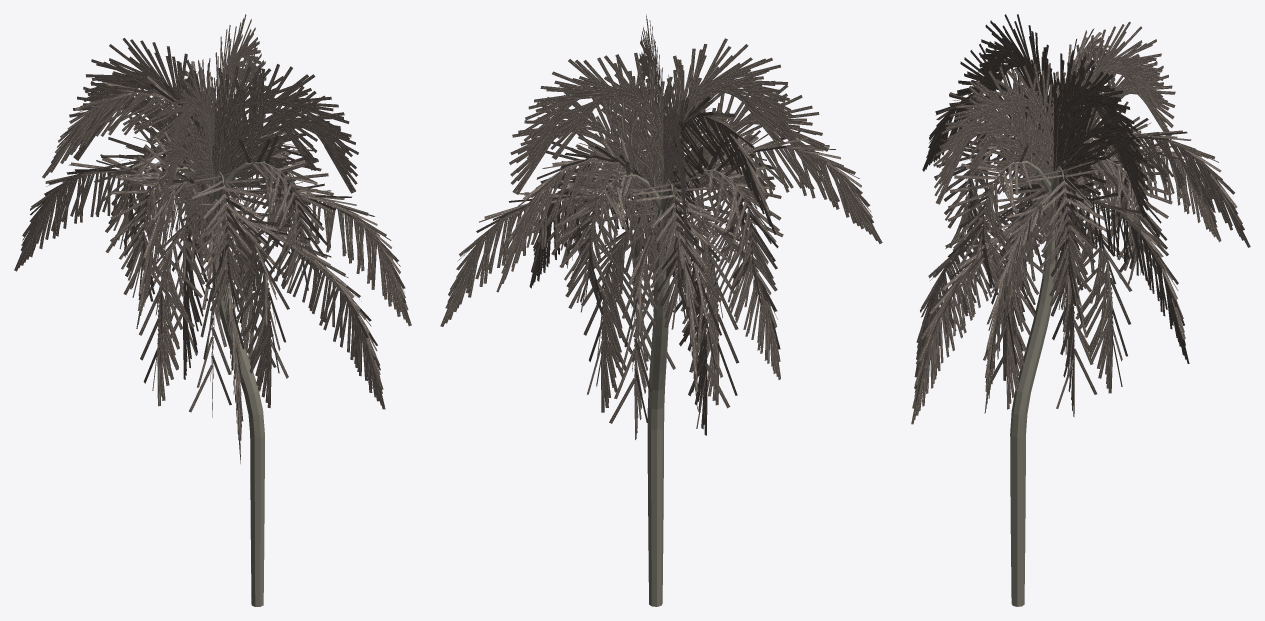
The model's file is palmTree.obj.
3 views of the same model, side by side, from view 1: azimuth 30°, elevation 25°; view 2: azimuth 150°, elevation 25°; view 3: azimuth 270°, elevation 25° (orthographic). The views are drawn at different scales.
Bounding box in the file's own units: 1.66 × 2.89 × 1.59.
